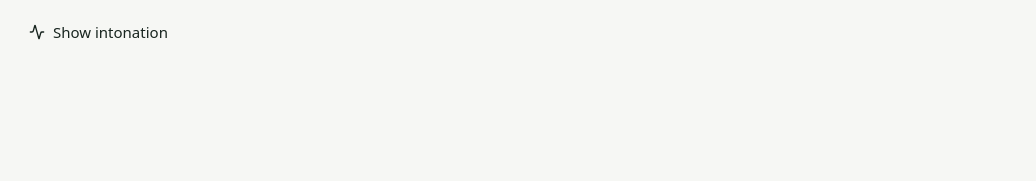
Scenario: follows the linked player and seeks it when the plot is clicked
Later steps or results of the test are not shown.
Click the button "Show intonation".
click(98, 32)  # box [12,12,185,52]
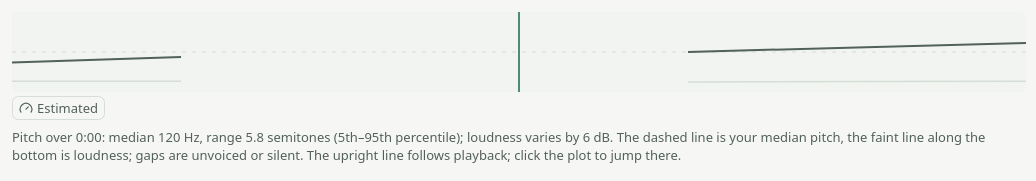
Check: the text "click the plot to jump there" is shown, box [12,128,985,164]
